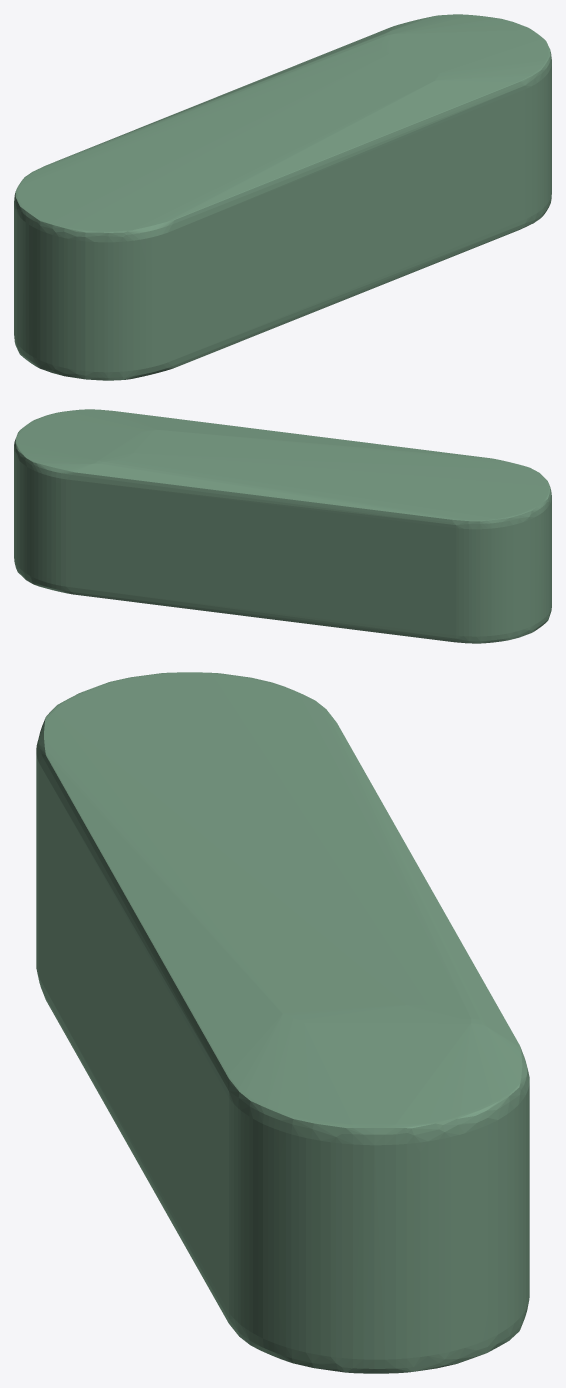
The model's file is torso_l2.obj.
3 views of the same model, one above another, from view 1: azimuth 30°, elevation 25°; view 2: azimuth 150°, elevation 25°; view 3: azimuth 270°, elevation 25° (orthographic). The views are drawn at different scales.
Parts seen in each view (by area): view 1: geometry_0; view 2: geometry_0; view 3: geometry_0.
Boxes of the visible parts, bbox=[...] form: geometry_0: bbox=[14, 14, 551, 380]; geometry_0: bbox=[14, 409, 551, 643]; geometry_0: bbox=[36, 672, 529, 1373].
Size of the model in its own units: 0.5672 by 0.1482 by 0.2574.
